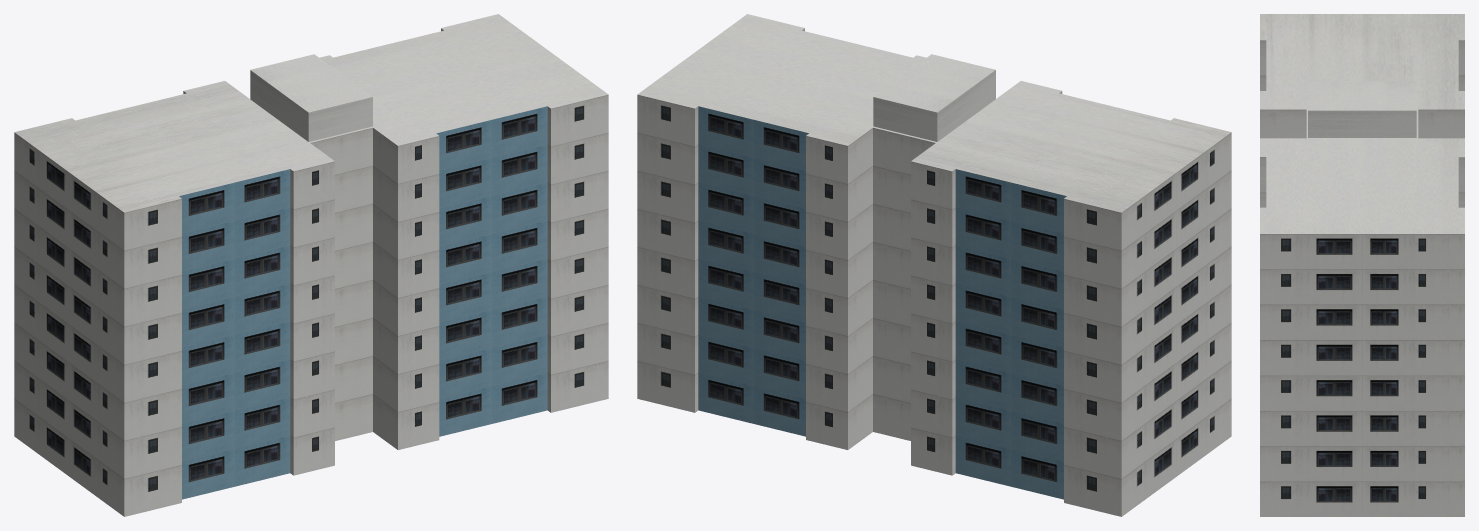
File: Building-03.fbx
The picture shows the model from 3 angles, left to right: view 1: azimuth 30°, elevation 25°; view 2: azimuth 150°, elevation 25°; view 3: azimuth 270°, elevation 25°; orthographic projection. The views are drawn at different scales.
Parts seen in each view (by area): view 1: Building-03; view 2: Building-03; view 3: Building-03.
Part boxes in pixels (x1=…): Building-03: x1=14, y1=14, x2=608, y2=516; Building-03: x1=637, y1=14, x2=1231, y2=516; Building-03: x1=1260, y1=14, x2=1464, y2=516.
Bounding box in the file's own units: 5148 × 3394 × 2027.
